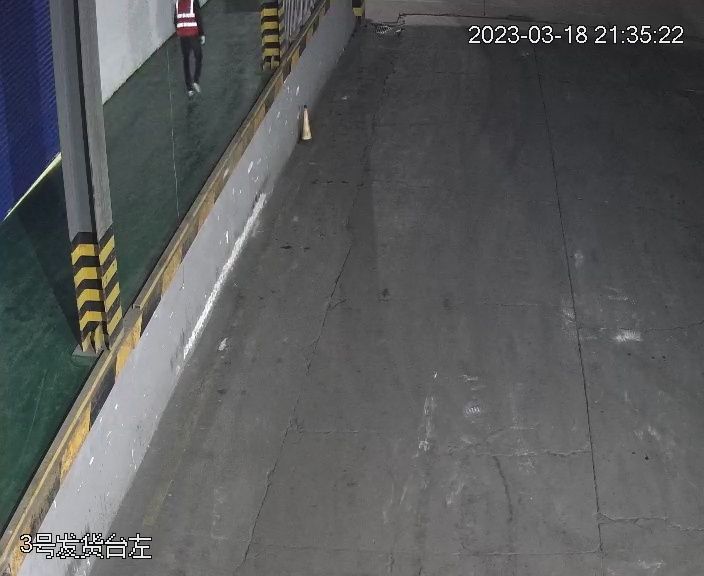people: (172, 1, 207, 94)
